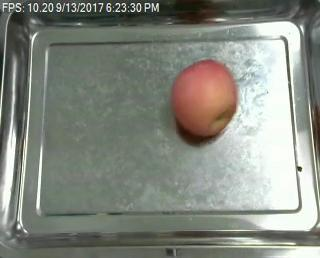apple: (171, 60, 238, 139)
